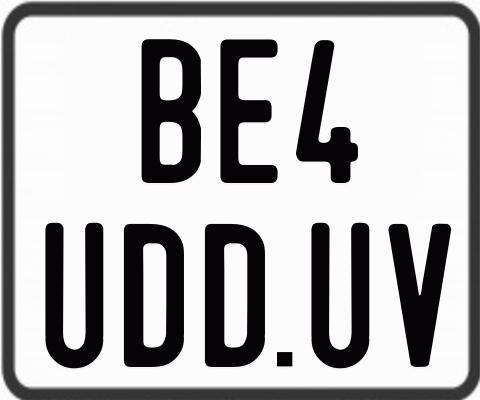4: (296, 38, 358, 183)
B: (141, 39, 200, 184)
D: (203, 222, 269, 365), (124, 224, 185, 370)
E: (217, 37, 281, 186)
U: (42, 221, 103, 372), (310, 220, 369, 368)
V: (389, 221, 455, 368)
